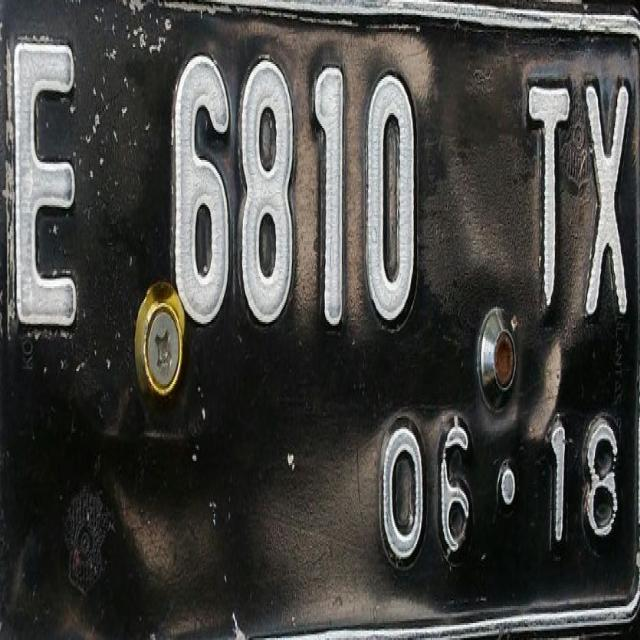plate: (1, 0, 638, 631)
